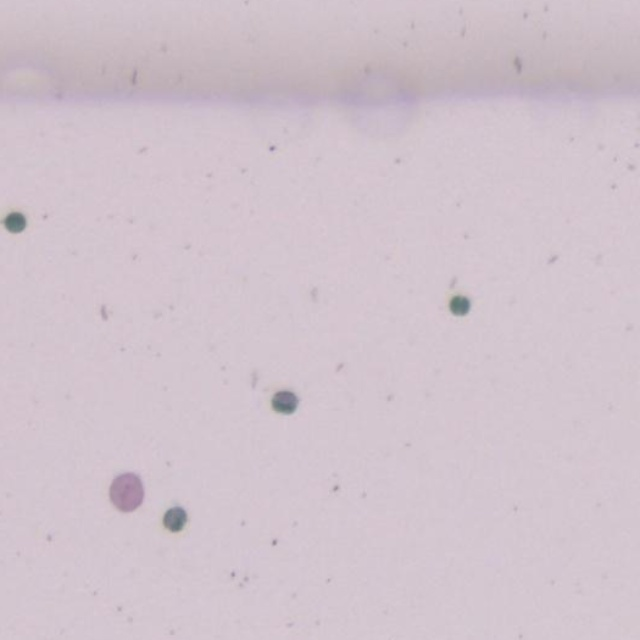intermediate: (108, 473, 143, 511)
non_viable: (162, 506, 187, 532), (272, 390, 297, 413), (2, 211, 26, 233), (449, 295, 469, 316)
